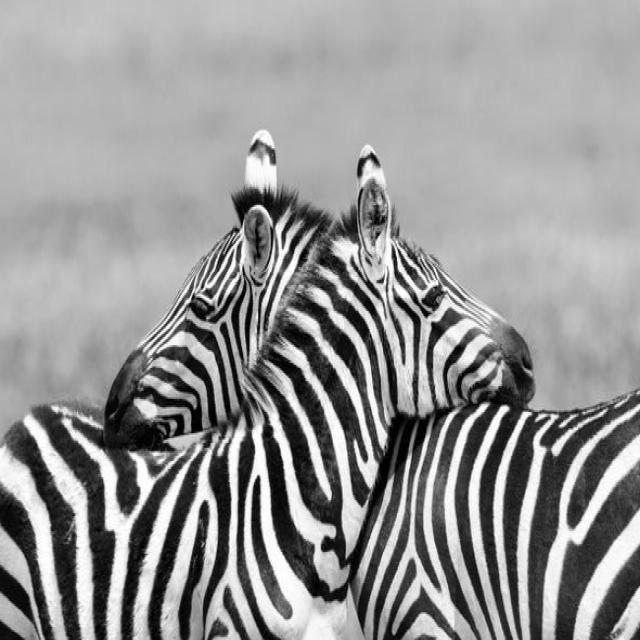zebra: (1, 130, 640, 638)
